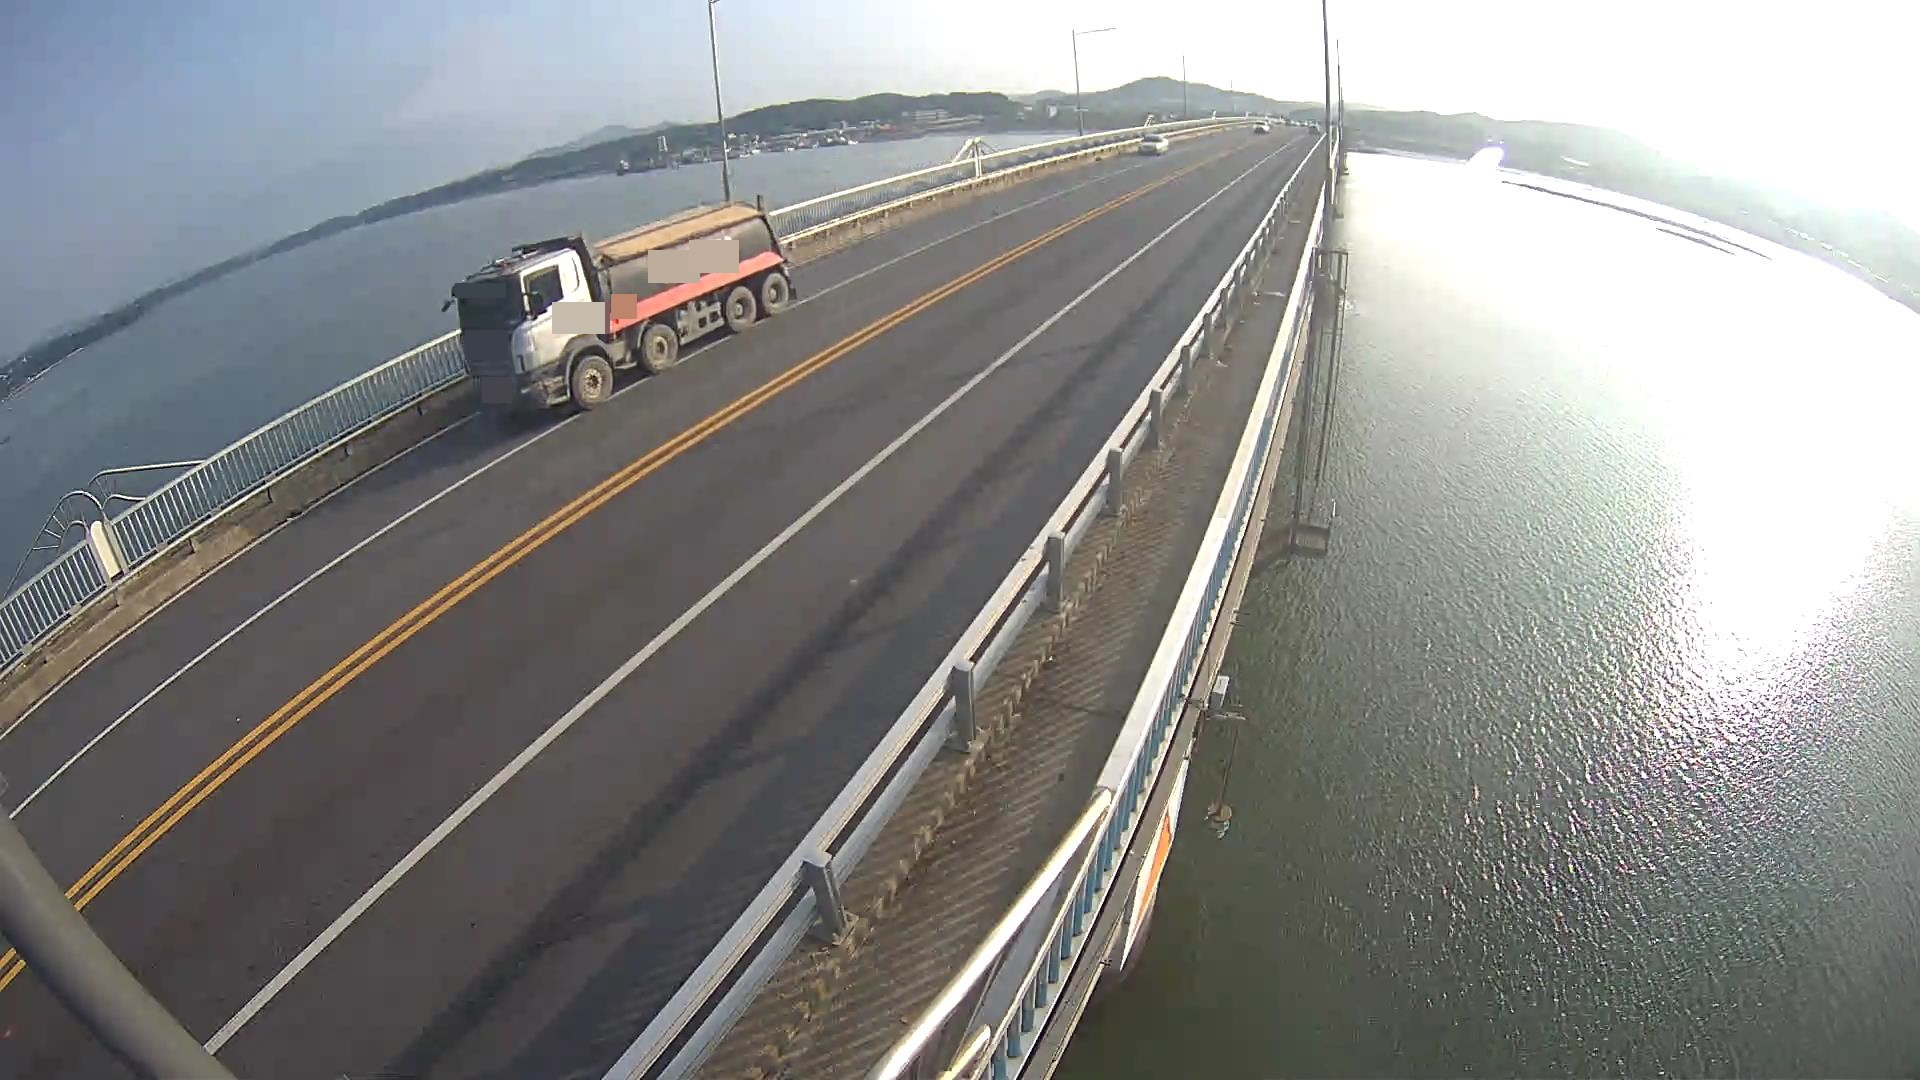정상차량: (438, 198, 800, 415)
